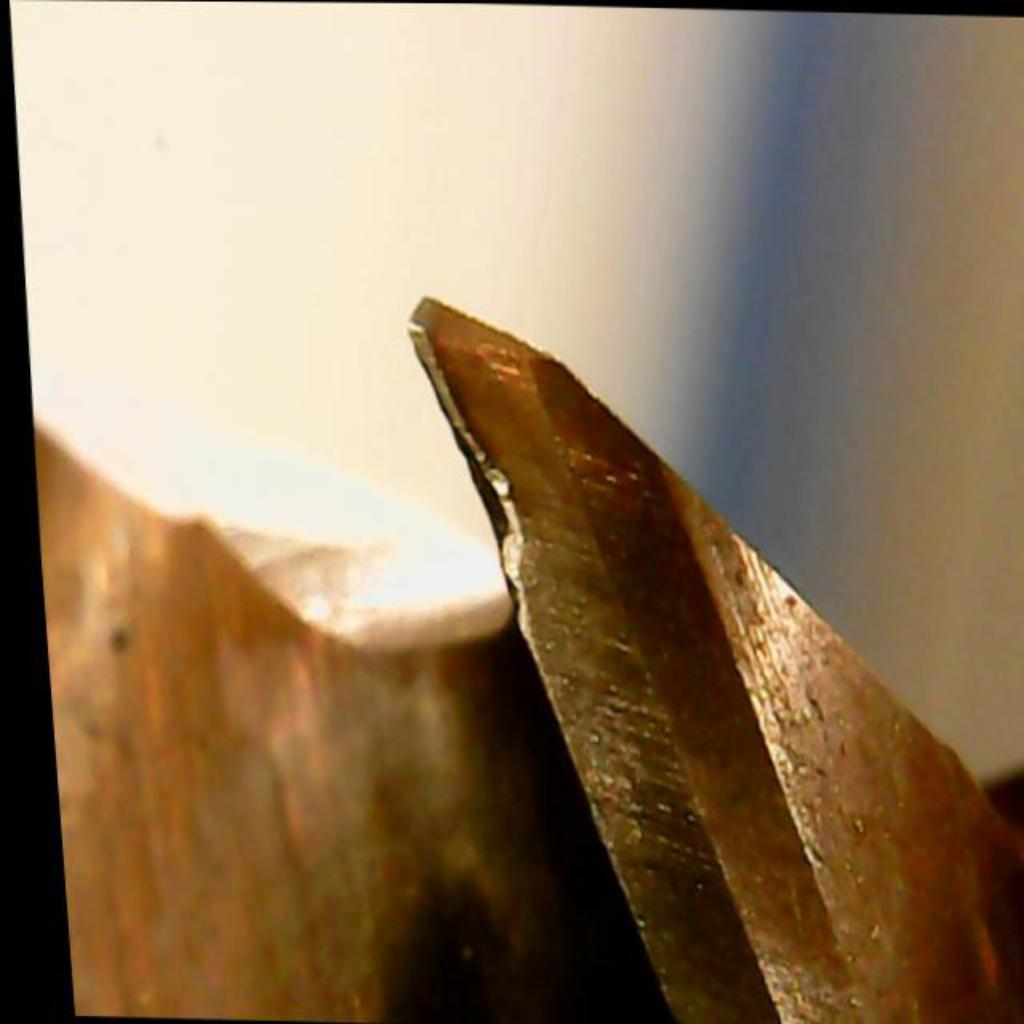Tool-wear-class-1: (376, 256, 672, 782)
